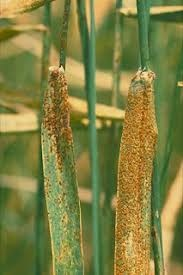Leaf Rust: (111, 93, 161, 274)
